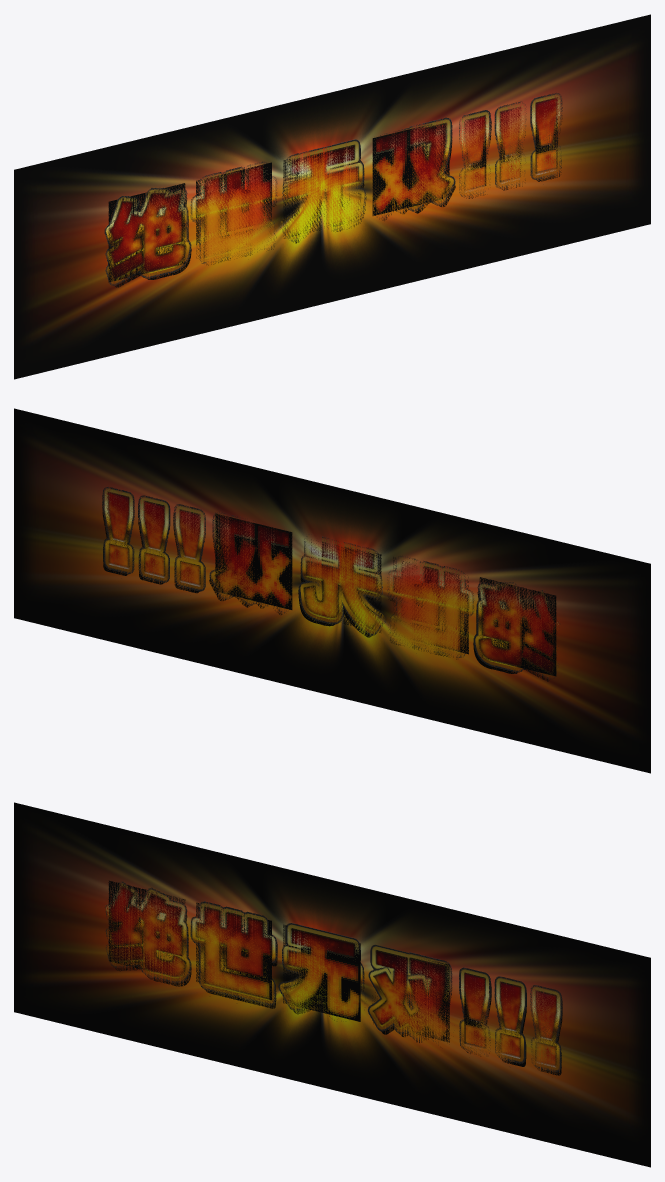
Rendered from GUI_jueshiwushuang.FBX.
3 renders of one model, top to bottom at view 1: azimuth 30°, elevation 25°; view 2: azimuth 150°, elevation 25°; view 3: azimuth 330°, elevation 25°, orthographic.
Parts seen in each view (by area): view 1: GUI_jueshiwushuang_guang, GUI_jueshiwushuang_1, GUI_jueshiwushuang_1_ad, GUI_jueshiwushuang_4_ad, GUI_jueshiwushuang_2, GUI_jueshiwushuang_3, GUI_jueshiwushuang_2_ad, GUI_jueshiwushuang_4, GUI_jueshiwushuang_3_ad, GUI_jueshiwushuang_7, GUI_jueshiwushuang_6, GUI_jueshiwushuang_7_ad (+3 smaller); view 2: GUI_jueshiwushuang_guang, GUI_jueshiwushuang_3, GUI_jueshiwushuang_4_ad, GUI_jueshiwushuang_1_ad, GUI_jueshiwushuang_2, GUI_jueshiwushuang_1, GUI_jueshiwushuang_5, GUI_jueshiwushuang_6, GUI_jueshiwushuang_7, GUI_jueshiwushuang_2_ad, GUI_jueshiwushuang_4, GUI_jueshiwushuang_7_ad; view 3: GUI_jueshiwushuang_guang, GUI_jueshiwushuang_2, GUI_jueshiwushuang_1, GUI_jueshiwushuang_4, GUI_jueshiwushuang_3_ad, GUI_jueshiwushuang_2_ad, GUI_jueshiwushuang_1_ad, GUI_jueshiwushuang_3, GUI_jueshiwushuang_6, GUI_jueshiwushuang_7, GUI_jueshiwushuang_4_ad, GUI_jueshiwushuang_5 (+1 smaller).
Boxes of the visible parts, <box> form: GUI_jueshiwushuang_guang: <box>14,14,650,379</box>; GUI_jueshiwushuang_1: <box>104,187,191,287</box>; GUI_jueshiwushuang_1_ad: <box>108,183,185,282</box>; GUI_jueshiwushuang_4_ad: <box>372,124,449,215</box>; GUI_jueshiwushuang_2: <box>190,161,277,265</box>; GUI_jueshiwushuang_3: <box>279,139,366,243</box>; GUI_jueshiwushuang_2_ad: <box>196,162,271,257</box>; GUI_jueshiwushuang_4: <box>370,117,455,220</box>; GUI_jueshiwushuang_3_ad: <box>283,158,360,238</box>; GUI_jueshiwushuang_7: <box>530,93,562,181</box>; GUI_jueshiwushuang_6: <box>494,101,526,190</box>; GUI_jueshiwushuang_7_ad: <box>535,97,557,173</box>; GUI_jueshiwushuang_guang: <box>14,408,650,773</box>; GUI_jueshiwushuang_3: <box>298,536,385,637</box>; GUI_jueshiwushuang_4_ad: <box>215,513,292,609</box>; GUI_jueshiwushuang_1_ad: <box>479,577,556,676</box>; GUI_jueshiwushuang_2: <box>387,555,474,659</box>; GUI_jueshiwushuang_1: <box>473,581,558,681</box>; GUI_jueshiwushuang_5: <box>173,504,205,593</box>; GUI_jueshiwushuang_6: <box>138,495,170,584</box>; GUI_jueshiwushuang_7: <box>102,487,134,575</box>; GUI_jueshiwushuang_2_ad: <box>393,557,468,654</box>; GUI_jueshiwushuang_4: <box>209,512,286,614</box>; GUI_jueshiwushuang_7_ad: <box>107,491,129,567</box>; GUI_jueshiwushuang_guang: <box>14,802,650,1167</box>; GUI_jueshiwushuang_2: <box>190,901,277,1008</box>; GUI_jueshiwushuang_1: <box>105,881,191,986</box>; GUI_jueshiwushuang_4: <box>367,944,452,1042</box>; GUI_jueshiwushuang_3_ad: <box>283,924,360,1021</box>; GUI_jueshiwushuang_2_ad: <box>196,902,271,1000</box>; GUI_jueshiwushuang_1_ad: <box>108,880,185,976</box>; GUI_jueshiwushuang_3: <box>278,923,365,1020</box>; GUI_jueshiwushuang_6: <box>494,976,526,1066</box>; GUI_jueshiwushuang_7: <box>530,985,562,1075</box>; GUI_jueshiwushuang_4_ad: <box>372,959,449,1042</box>; GUI_jueshiwushuang_5: <box>459,967,491,1056</box>.
Bounding box in the file's own units: 952 × 300 × 1.31e-05.
11 materials, 11 textured.
